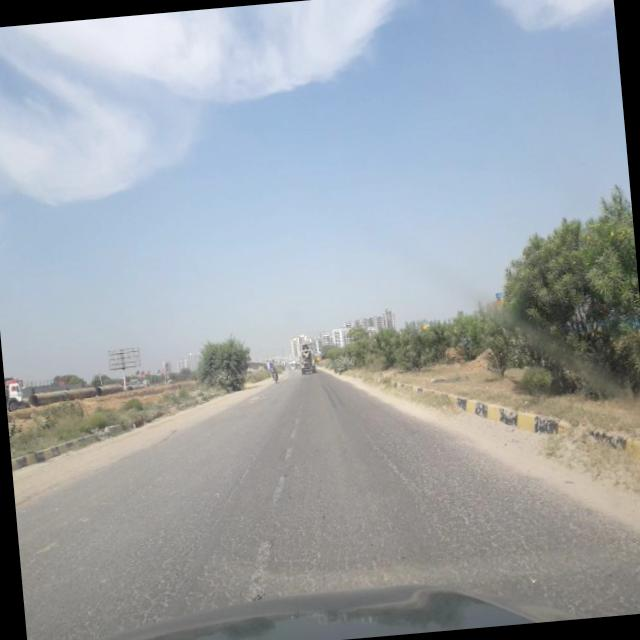crack: (13, 425, 640, 625)
pothole: (354, 410, 416, 493)
